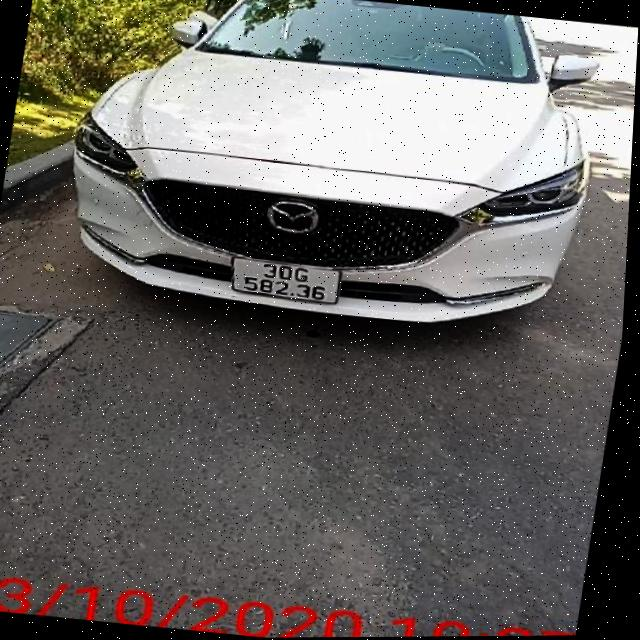car: (49, 0, 633, 357)
plate: (217, 248, 350, 312)
